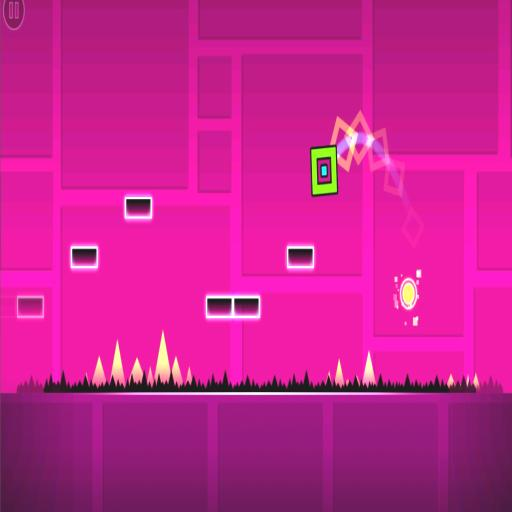block: (201, 291, 265, 322), (65, 240, 103, 277), (12, 286, 46, 322), (124, 190, 154, 226), (285, 242, 317, 275)
player: (311, 145, 337, 195)
spike: (154, 332, 169, 382), (111, 341, 123, 385), (362, 351, 374, 385), (92, 357, 105, 386), (128, 359, 142, 383), (171, 357, 182, 386), (334, 359, 342, 386), (147, 368, 152, 386), (472, 374, 478, 389), (186, 367, 191, 384), (447, 375, 453, 387), (325, 372, 330, 384), (355, 375, 359, 384), (466, 375, 469, 387), (85, 372, 87, 383), (345, 380, 348, 385)
